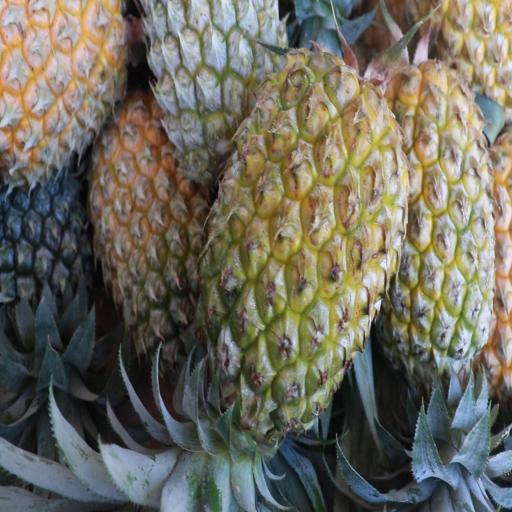------------------------------: (88, 100, 203, 359)
Pineapple - v8 v1: (204, 64, 406, 420), (378, 54, 494, 362), (0, 0, 121, 168)
